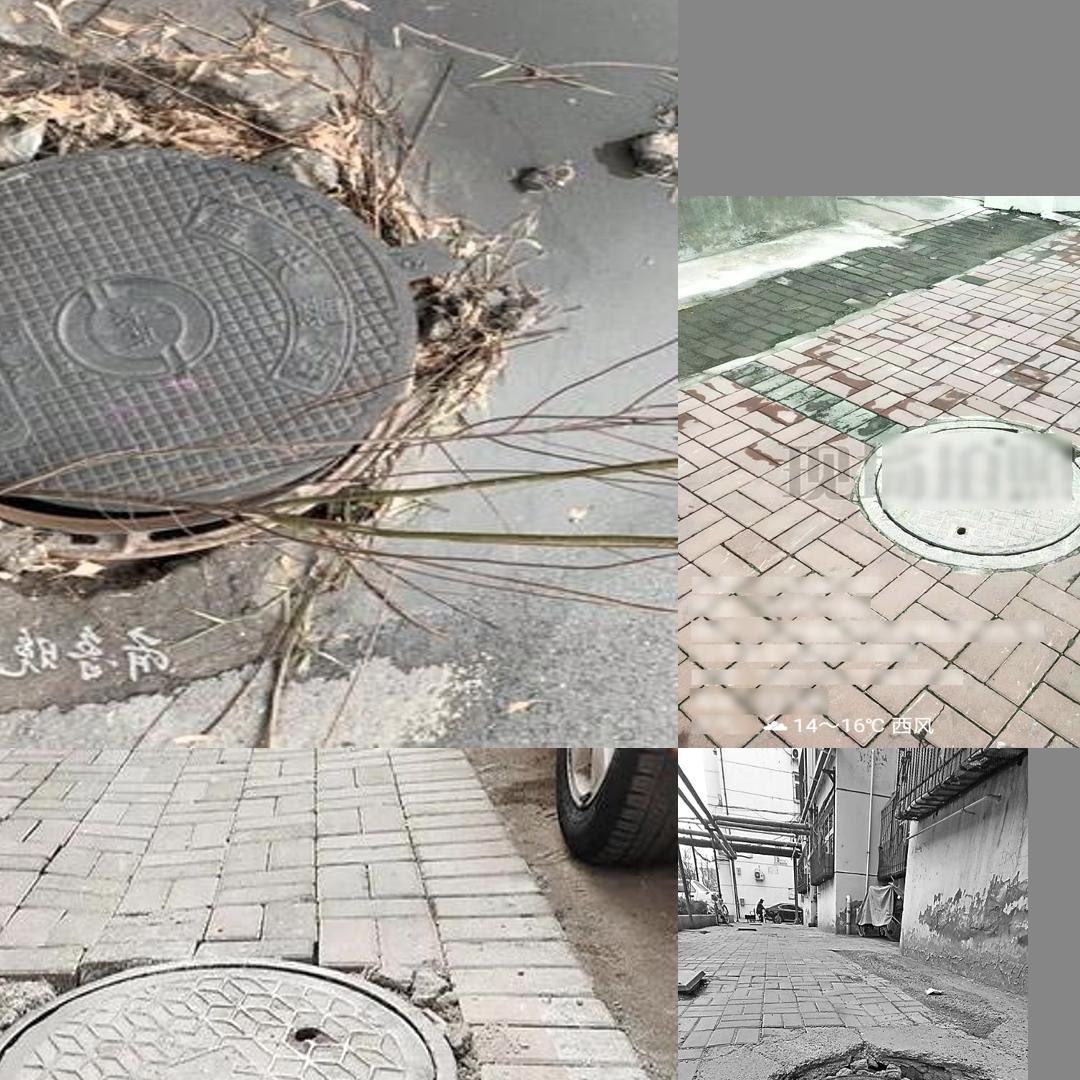circle: (0, 0, 569, 700), (0, 933, 549, 1080), (853, 420, 1080, 574), (724, 1027, 1027, 1080)
